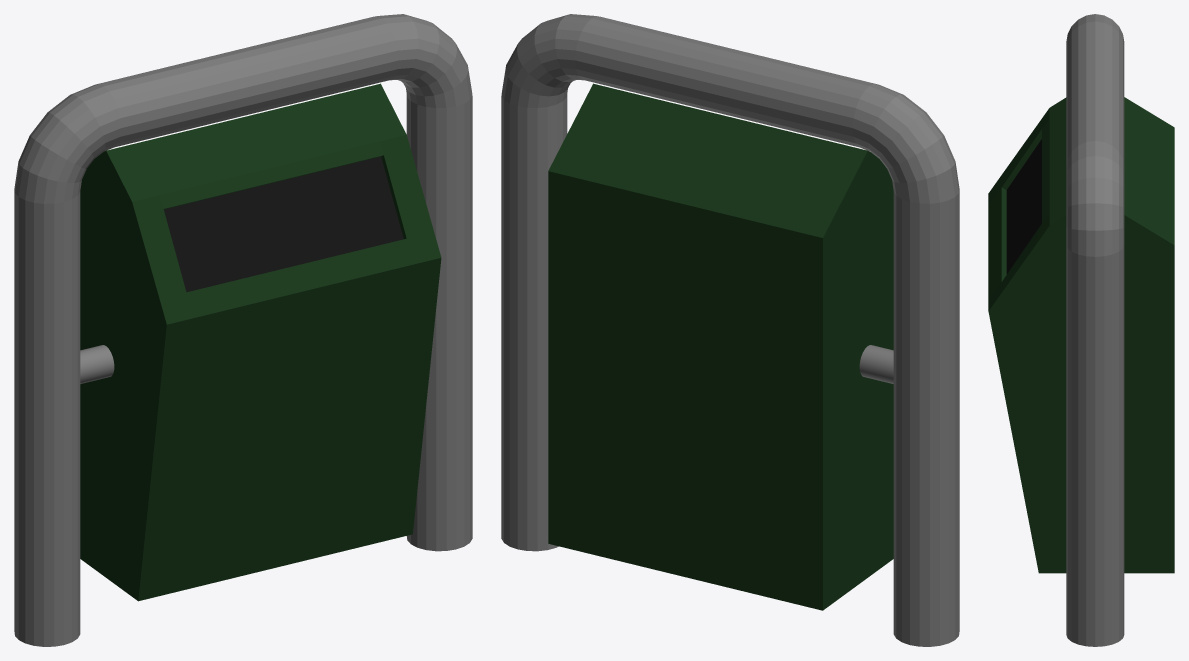
Rendered from Trash_Can.fbx.
The picture shows the model from 3 angles, left to right: view 1: azimuth 30°, elevation 25°; view 2: azimuth 150°, elevation 25°; view 3: azimuth 270°, elevation 25°; orthographic projection. The views are drawn at different scales.
Parts seen in each view (by area): view 1: pasted__pCylinder1.001; view 2: pasted__pCylinder1.001; view 3: pasted__pCylinder1.001.
Boxes of the visible parts, bbox=[...] form: pasted__pCylinder1.001: bbox=[14, 14, 472, 646]; pasted__pCylinder1.001: bbox=[501, 14, 959, 646]; pasted__pCylinder1.001: bbox=[988, 14, 1174, 646].
Bounding box in the file's own units: 40.64 × 46.04 × 16.55.
